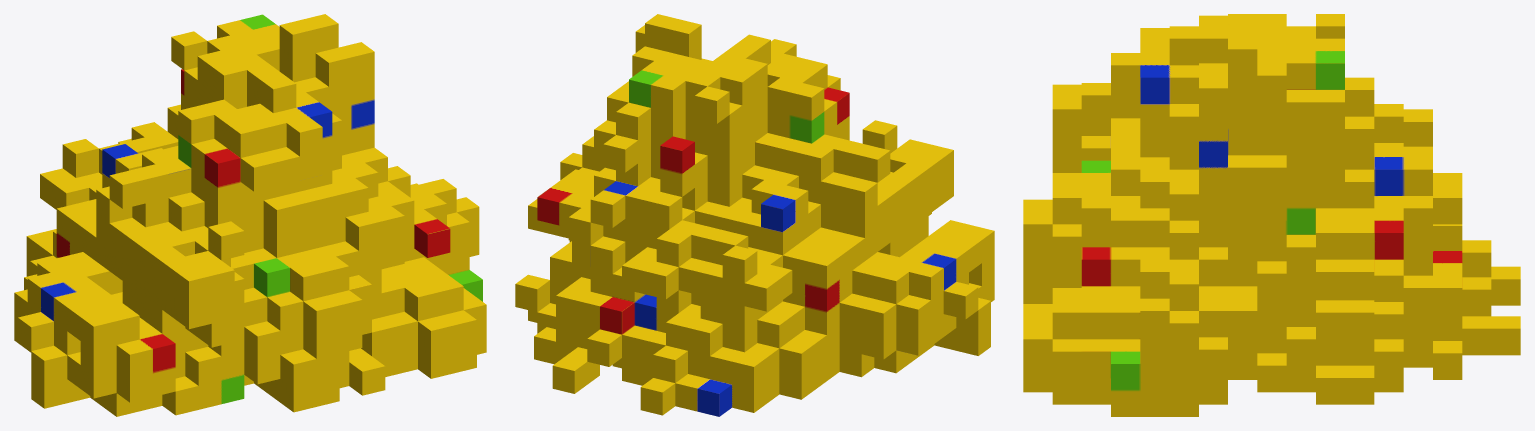
File: Treasure_Big.obj
The picture shows the model from 3 angles, left to right: view 1: azimuth 30°, elevation 25°; view 2: azimuth 150°, elevation 25°; view 3: azimuth 270°, elevation 25°; orthographic projection. The views are drawn at different scales.
Visible parts, largest first — view 1: Treasure_Big_Treasure_Big.001; view 2: Treasure_Big_Treasure_Big.001; view 3: Treasure_Big_Treasure_Big.001.
Part boxes in pixels (x1,y1,x2,y2): Treasure_Big_Treasure_Big.001: [14, 14, 486, 416]; Treasure_Big_Treasure_Big.001: [515, 14, 994, 416]; Treasure_Big_Treasure_Big.001: [1023, 14, 1520, 416].
Bounding box in the file's own units: 1.9 × 1.2 × 1.7.
Materials: 1 (1 with a texture image).
